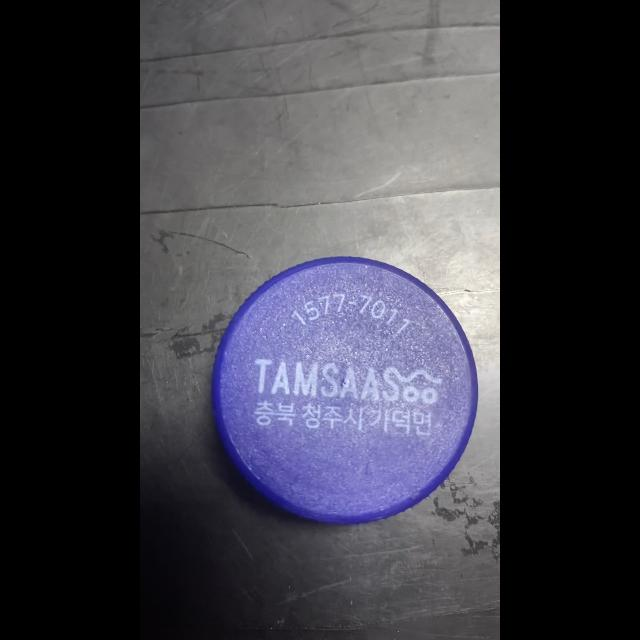plastic_bottle_cap: (208, 250, 484, 532)
